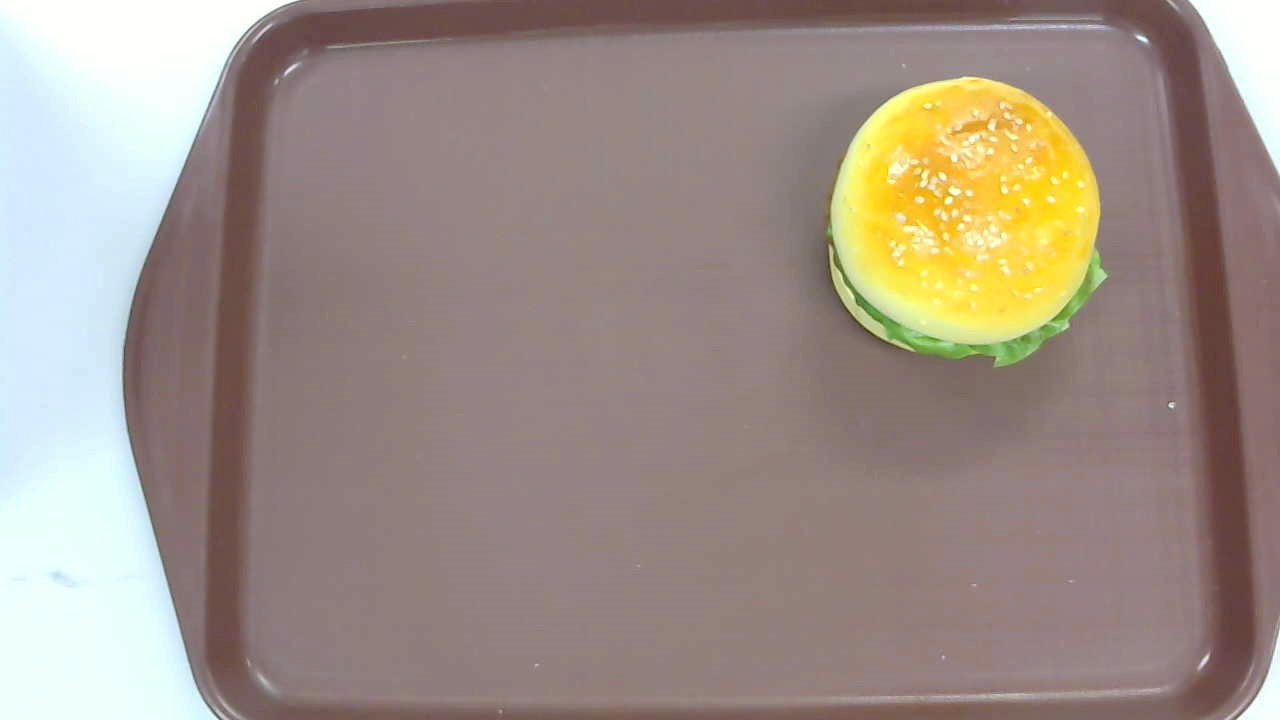hamburger: (826, 75, 1109, 368)
